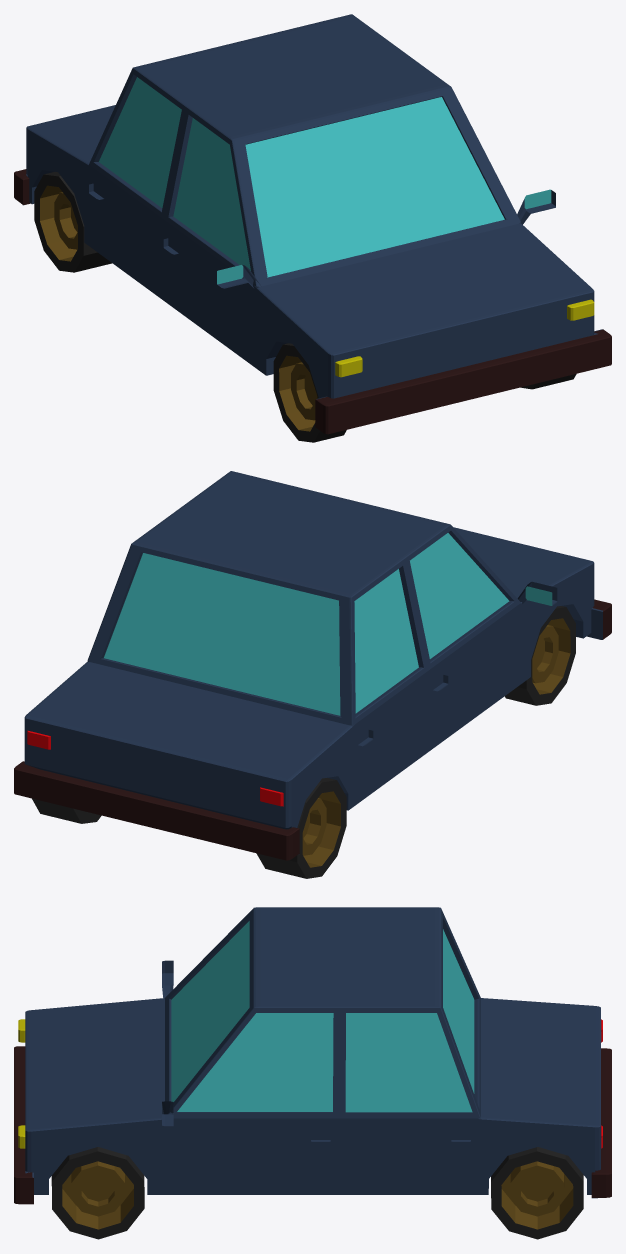
File: car_1_blue.fbx
The picture shows the model from 3 angles, top to bottom: view 1: azimuth 30°, elevation 25°; view 2: azimuth 150°, elevation 25°; view 3: azimuth 270°, elevation 25°; orthographic projection. The views are drawn at different scales.
Parts seen in each view (by area): view 1: Cube; view 2: Cube; view 3: Cube.
Boxes of the visible parts, bbox=[...] form: Cube: bbox=[14, 14, 611, 442]; Cube: bbox=[14, 471, 611, 878]; Cube: bbox=[14, 907, 611, 1239].
Size of the model in its own units: 488 by 329 by 806.
